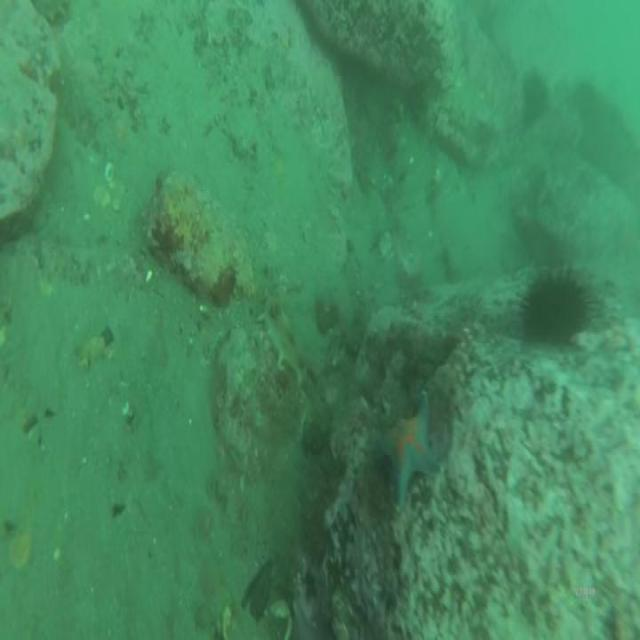echinus: (525, 268, 591, 348), (526, 66, 548, 118)
holothurian: (262, 292, 310, 381)
starfish: (379, 389, 439, 507)
